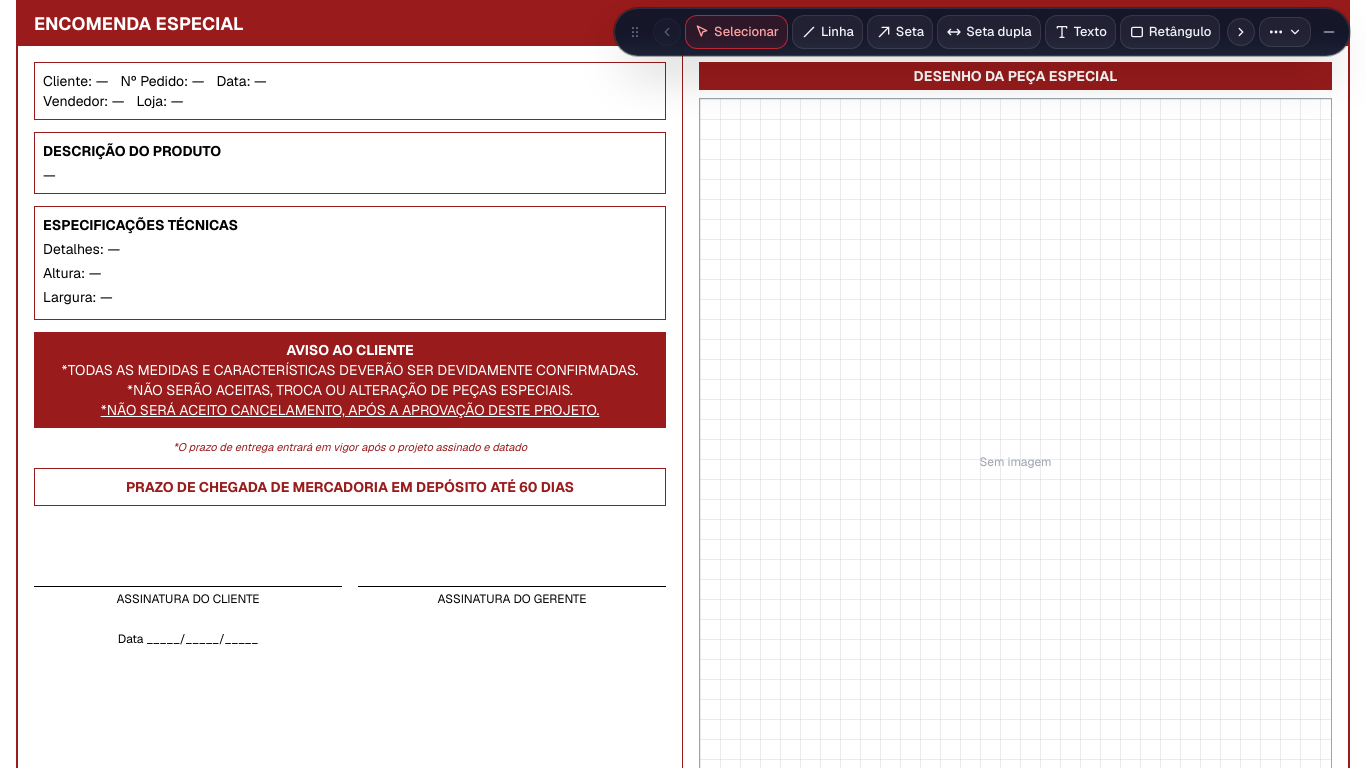
Scenario: EditorDesenho — barra flutuante expansível › o botão de mais opções abre uma dica mesmo sem seleção e recolhe de novo
Click the button named "Mais opções" at (1285, 32), box [1259,17,1311,47]
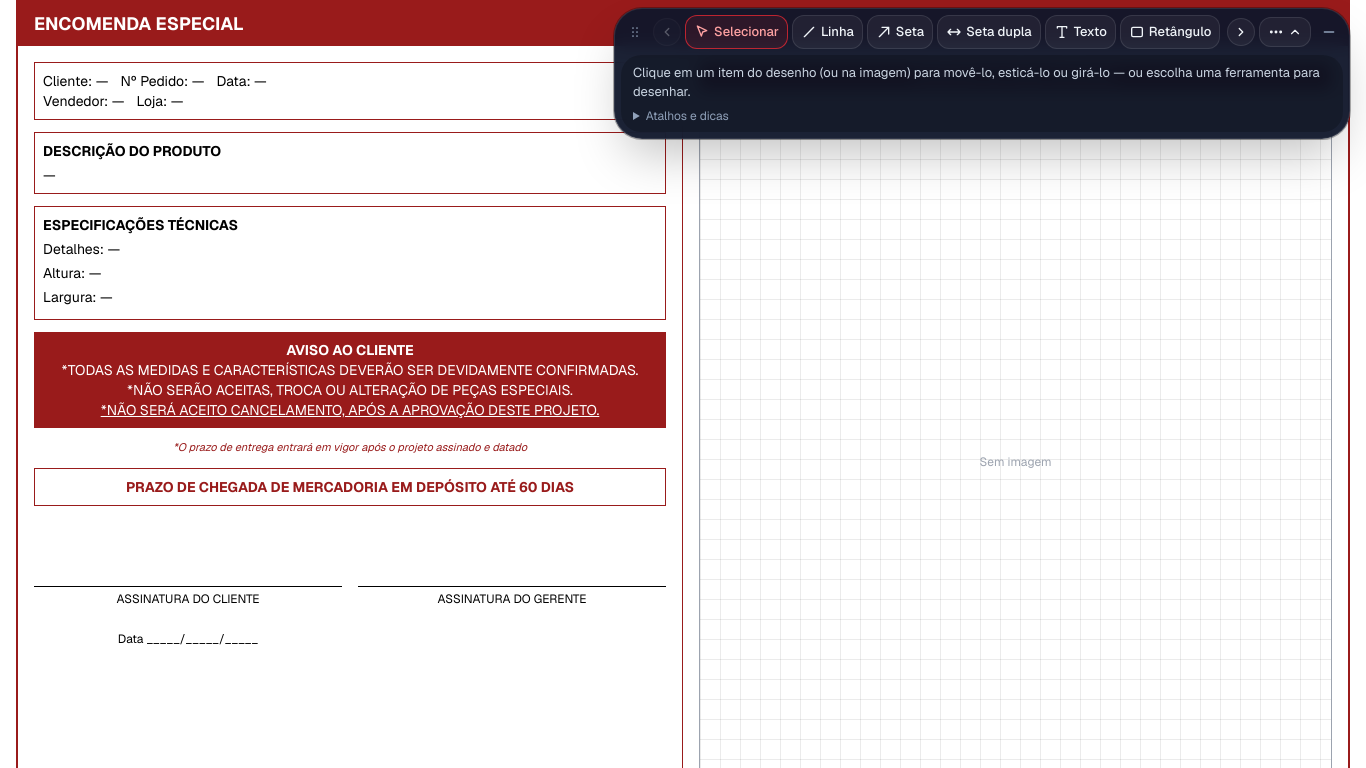
Expected: the text "Clique em um item do desenho" is shown, [633,64,1320,100]
Click the button named "Recolher opções" at (1285, 32), box [1259,17,1311,47]
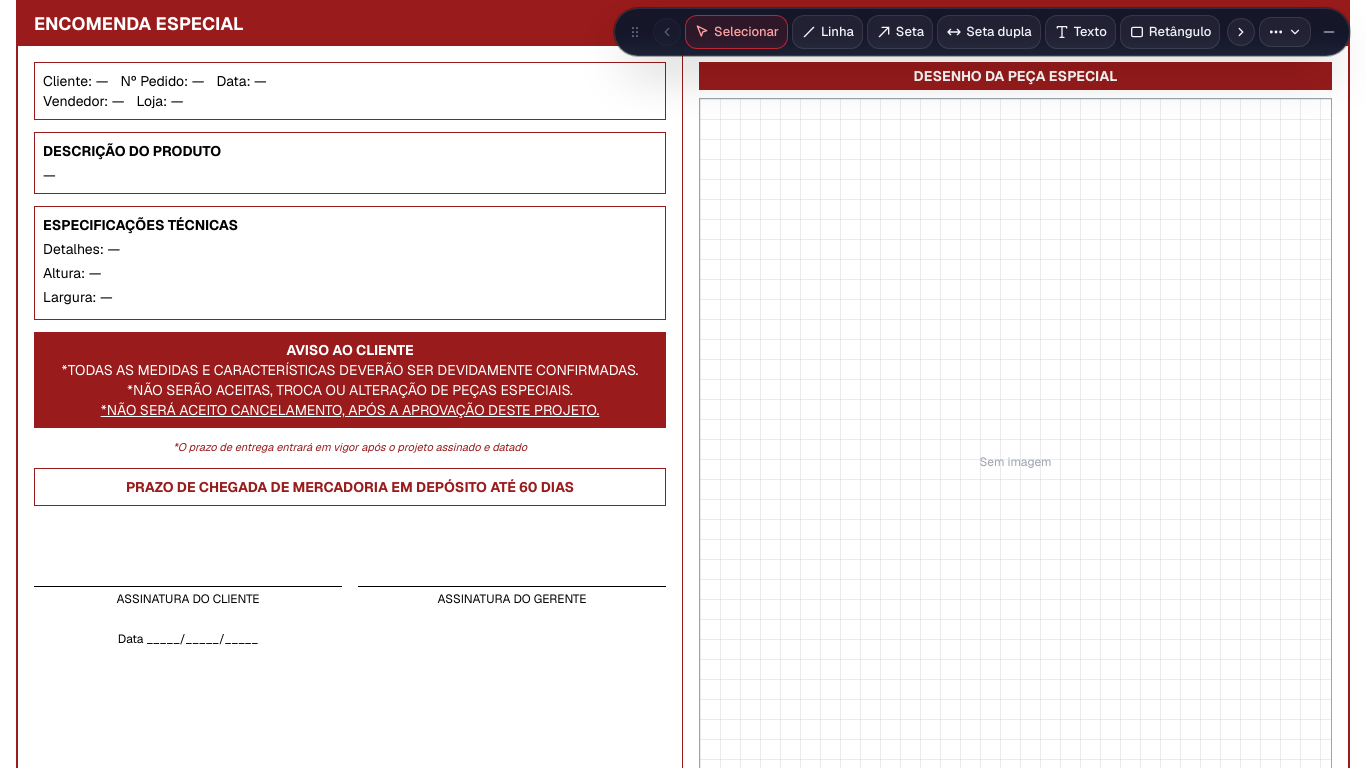
Expected: the text "Clique em um item do desenho" is gone
